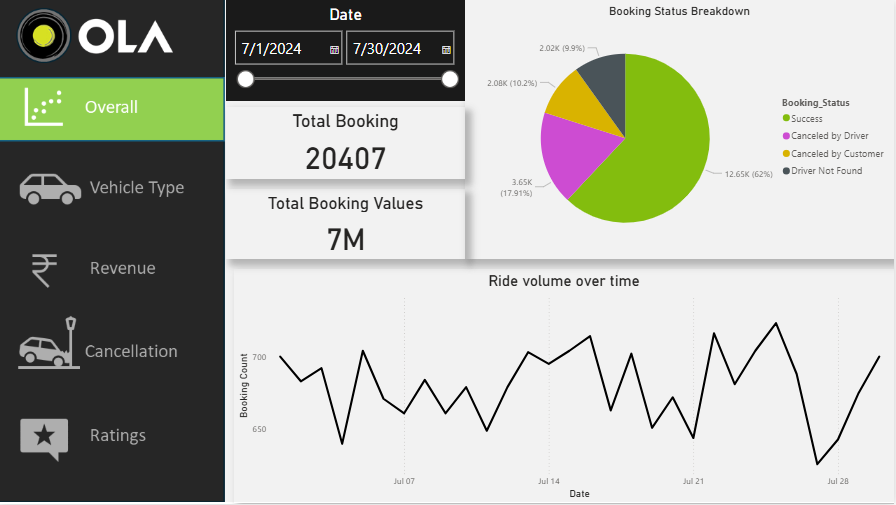

What the dashboard file says about the page in this screenshot:
{"tool":"powerbi","page":{"name":"overall","canvas":[1280,720],"ordinal":0},"visuals":[{"type":"actionButton","box":[0,223.4,325.8,92],"z":0},{"type":"actionButton","box":[0,339,325.8,92],"z":1000},{"type":"actionButton","box":[0,448,325.8,86.7],"z":2000},{"type":"actionButton","box":[0,583.4,325.8,86.7],"z":3000},{"type":"lineChart","title":"Ride volume over time","fields":{"Y":["CountNonNull(ola dataset 1.Booking_ID)"],"Category":["ola dataset 1.Date"]},"box":[337.1,384.3,942.9,334.3],"z":4000},{"type":"pieChart","title":"Booking Status Breakdown","fields":{"Category":["ola dataset 1.Booking_Status"],"Y":["CountNonNull(ola dataset 1.Booking_Status)"]},"box":[667.1,0,612.9,370],"z":5000},{"type":"slicer","title":"Date","fields":{"Values":["ola dataset 1.Date"]},"box":[325.7,0,341.4,142.9],"z":6000},{"type":"card","title":"Total Booking","fields":{"Values":["CountNonNull(ola dataset 1.Booking_ID)"]},"box":[325.7,152.9,341.4,102.9],"z":7000},{"type":"card","title":"Total Booking Values","fields":{"Values":["Sum(ola dataset 1.Booking_Value)"]},"box":[325.7,270,341.4,100],"z":8000}]}

Visuals, with their boxes on the page's 1280x720 design canvas (x1, y1, x2, y2). These are canvas units, not pixel positions in the 896x505 screenshot, which may show the page scaled, cropped or inside an application window:
actionButton: 0,223,326,315
actionButton: 0,339,326,431
actionButton: 0,448,326,535
actionButton: 0,583,326,670
"Ride volume over time" lineChart: 337,384,1280,719
"Booking Status Breakdown" pieChart: 667,0,1280,370
"Date" slicer: 326,0,667,143
"Total Booking" card: 326,153,667,256
"Total Booking Values" card: 326,270,667,370
